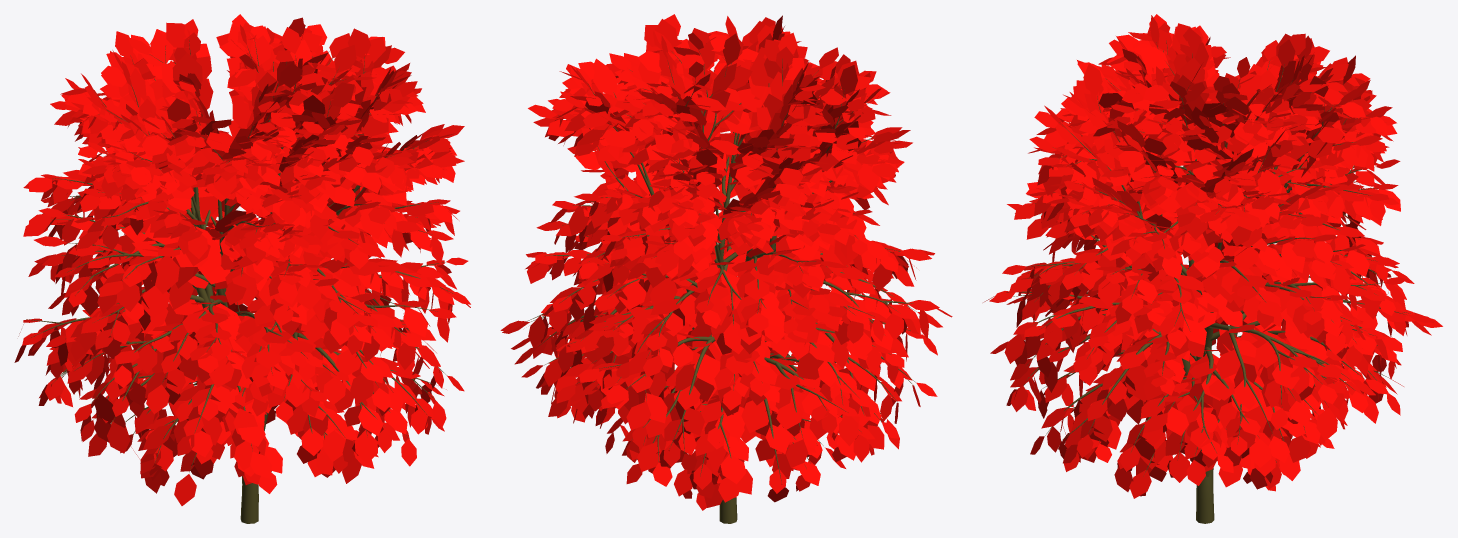
The model's file is red_maple_tree.fbx.
The picture shows the model from 3 angles, left to right: view 1: azimuth 30°, elevation 25°; view 2: azimuth 150°, elevation 25°; view 3: azimuth 270°, elevation 25°; orthographic projection.
Parts seen in each view (by area): view 1: leaves, tree; view 2: leaves, tree; view 3: leaves, tree.
Boxes of the visible parts, x1,y1,x2,y2 form: leaves: (14,14,470,505); tree: (26,40,453,523); leaves: (500,14,952,510); tree: (526,49,916,523); leaves: (983,14,1442,498); tree: (1006,40,1410,523).
Bounding box in the file's own units: 29.68 × 35.55 × 31.3.
